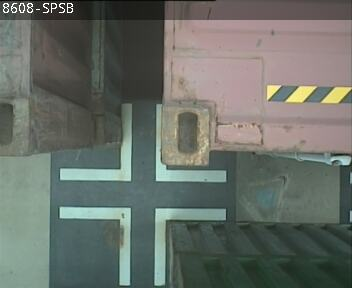groundmarker_1: (57, 103, 226, 182), (58, 207, 227, 286)
